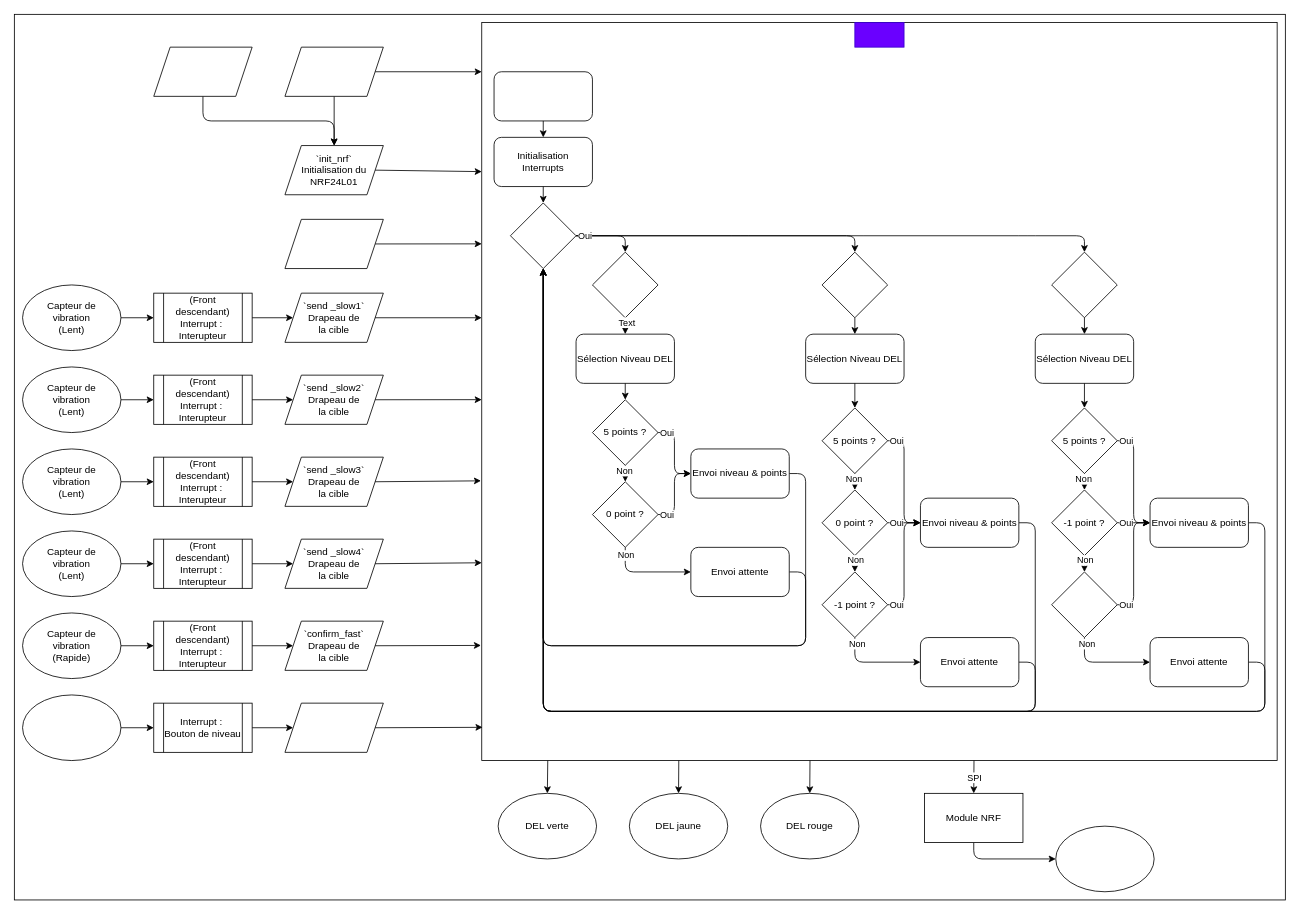
Image size: 1300x914. Some labels were removed from this diagram. The box of each missing label's shape, as (x1, y1, x2, y2) in pixels:
-3 points ?: (1051, 571, 1117, 638)
`set_level` Sélection du niveau de difficulté: (284, 702, 383, 752)
`turn_false` Désactive les drapeaux: (284, 219, 383, 269)
`writing_2` Écriture SPI d'une commande et d'une donnée: (284, 46, 383, 96)
`writing` Écriture SPI d'un tableau indéfinie: (153, 46, 252, 96)
Bouton: (22, 694, 121, 761)
Initialisation System ,DELs , NRF: (493, 71, 592, 121)
Main: (854, 22, 904, 47)
Niveau 1: (592, 251, 658, 318)
Niveau 2: (821, 251, 888, 318)
Niveau 3: (1051, 251, 1117, 318)
Onde ISM sans-fil: (1055, 825, 1154, 892)
While True: (510, 202, 576, 269)
